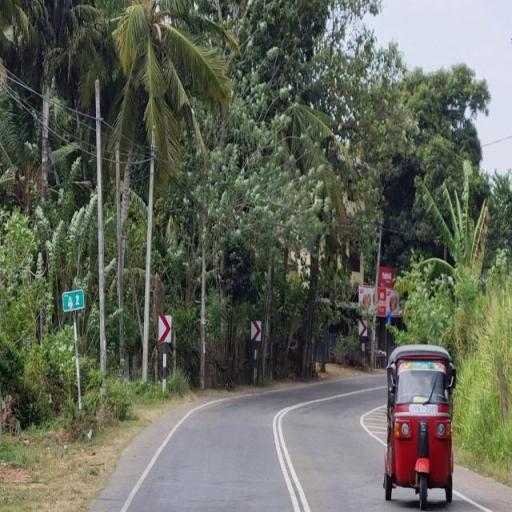double_white_line: (271, 404, 312, 510), (360, 403, 386, 446), (446, 490, 489, 510)
